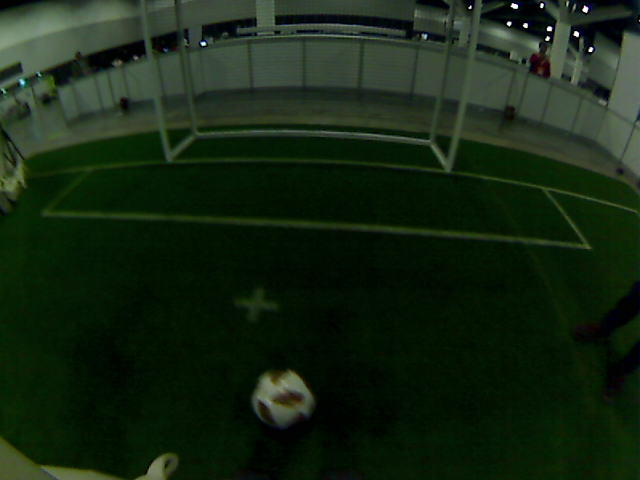ball: (262, 379, 302, 419)
goalpost: (428, 110, 468, 170), (150, 102, 187, 162)
